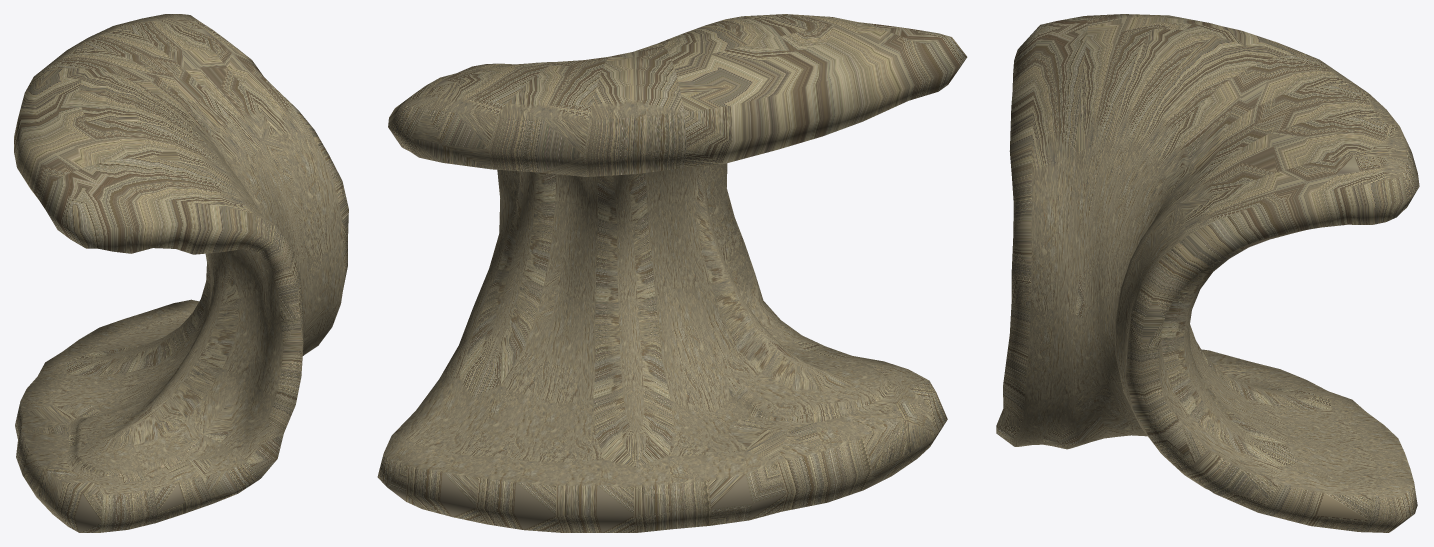
File: saltmine_convex_01.dae
3 views of the same model, side by side, from view 1: azimuth 30°, elevation 25°; view 2: azimuth 150°, elevation 25°; view 3: azimuth 270°, elevation 25° (orthographic). The views are drawn at different scales.
Visible parts, largest first — view 1: corner_convex_1; view 2: corner_convex_1; view 3: corner_convex_1.
Boxes of the visible parts, <box> form: corner_convex_1: <box>14,14,348,532</box>; corner_convex_1: <box>377,14,967,532</box>; corner_convex_1: <box>996,14,1419,532</box>.
Bounding box in the file's own units: 8.21 × 8.88 × 8.37.
